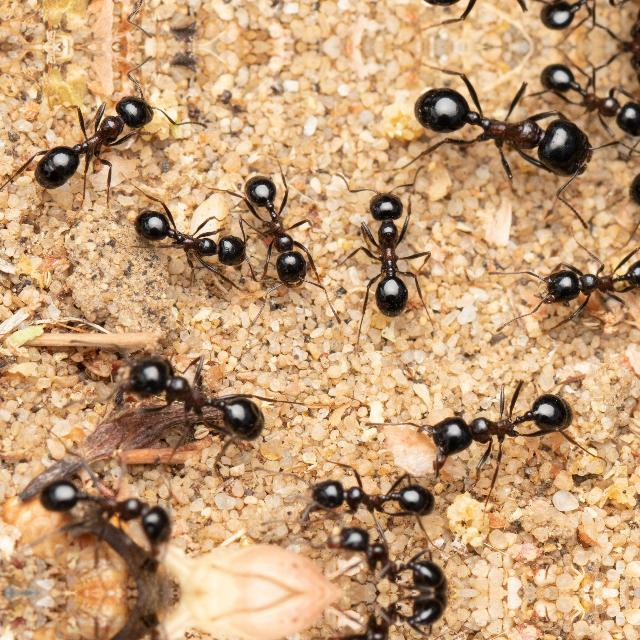Messor: (404, 68, 612, 192), (397, 376, 606, 482), (110, 337, 256, 455), (40, 104, 164, 200), (133, 191, 249, 291), (238, 162, 322, 288), (328, 511, 454, 592), (358, 185, 432, 322), (524, 245, 640, 332), (534, 46, 640, 130), (306, 462, 439, 524), (327, 593, 454, 640), (534, 0, 639, 46)
